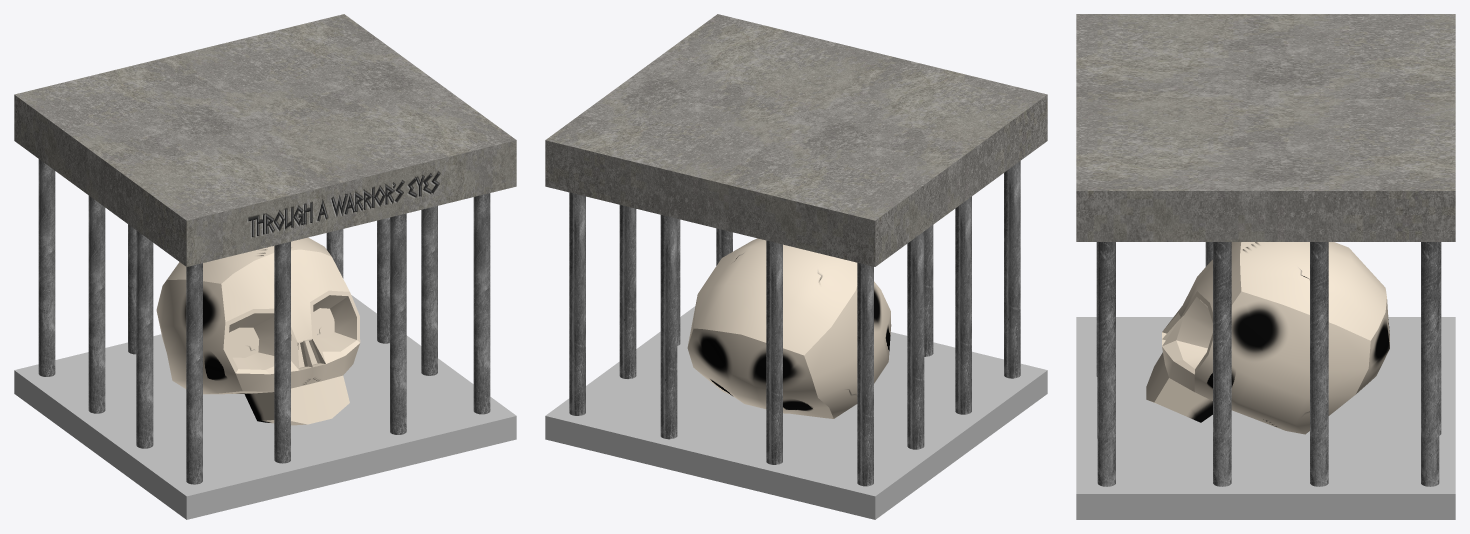
The model's file is skull.fbx.
The picture shows the model from 3 angles, left to right: view 1: azimuth 30°, elevation 25°; view 2: azimuth 150°, elevation 25°; view 3: azimuth 270°, elevation 25°; orthographic projection. The views are drawn at different scales.
Parts seen in each view (by area): view 1: Box003, Box002, Box001, Cylinder002, Cylinder008, Cylinder006, Cylinder007, Cylinder011, Cylinder012, Cylinder010, Cylinder005, Cylinder004 (+2 smaller); view 2: Box003, Box002, Box001, Cylinder014, Cylinder008, Cylinder013, Cylinder007, Cylinder003, Cylinder006, Cylinder010, Cylinder004, Cylinder011; view 3: Box003, Box002, Box001, Cylinder002, Cylinder003, Cylinder004, Cylinder005, Cylinder014.
Boxes of the visible parts, <box> form: Box003: <box>14,14,516,266</box>; Box002: <box>14,295,516,519</box>; Box001: <box>156,237,360,425</box>; Cylinder002: <box>473,193,490,414</box>; Cylinder008: <box>88,195,105,413</box>; Cylinder006: <box>136,230,153,448</box>; Cylinder007: <box>38,159,55,376</box>; Cylinder011: <box>274,241,290,463</box>; Cylinder012: <box>390,213,406,434</box>; Cylinder010: <box>186,263,202,484</box>; Cylinder005: <box>421,206,437,375</box>; Cylinder004: <box>377,217,389,343</box>; Box003: <box>545,14,1047,266</box>; Box002: <box>545,306,1047,519</box>; Box001: <box>687,238,891,418</box>; Cylinder014: <box>660,215,677,439</box>; Cylinder008: <box>907,231,924,449</box>; Cylinder013: <box>766,240,782,464</box>; Cylinder007: <box>857,263,873,486</box>; Cylinder003: <box>569,192,585,415</box>; Cylinder006: <box>955,196,971,414</box>; Cylinder010: <box>1004,161,1020,378</box>; Cylinder004: <box>619,205,636,378</box>; Cylinder011: <box>924,225,933,356</box>; Box003: <box>1076,14,1455,241</box>; Box002: <box>1076,317,1455,519</box>; Box001: <box>1146,242,1389,434</box>; Cylinder002: <box>1097,242,1115,486</box>; Cylinder003: <box>1421,242,1439,486</box>; Cylinder004: <box>1310,242,1328,486</box>; Cylinder005: <box>1213,242,1231,486</box>; Cylinder014: <box>1439,242,1441,435</box>.
Bounding box in the file's own units: 7.92 × 6.86 × 7.17.
